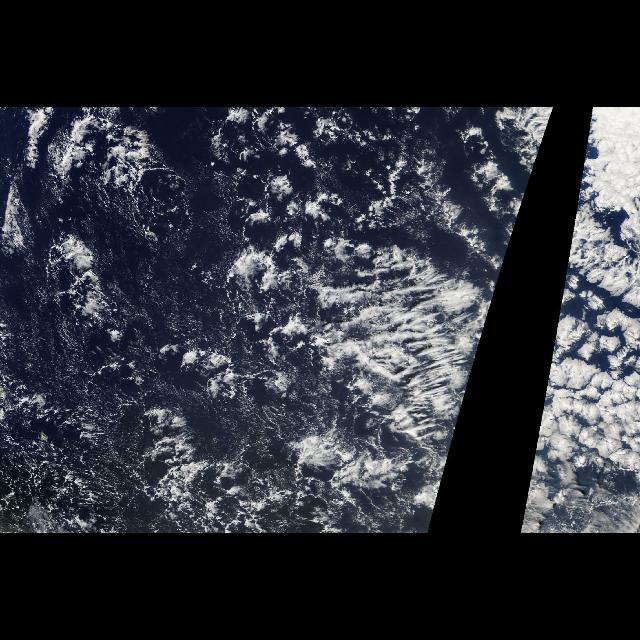Flower: (570, 314, 630, 478)
Gravel: (0, 271, 316, 533)
Sugar: (115, 232, 227, 354)
